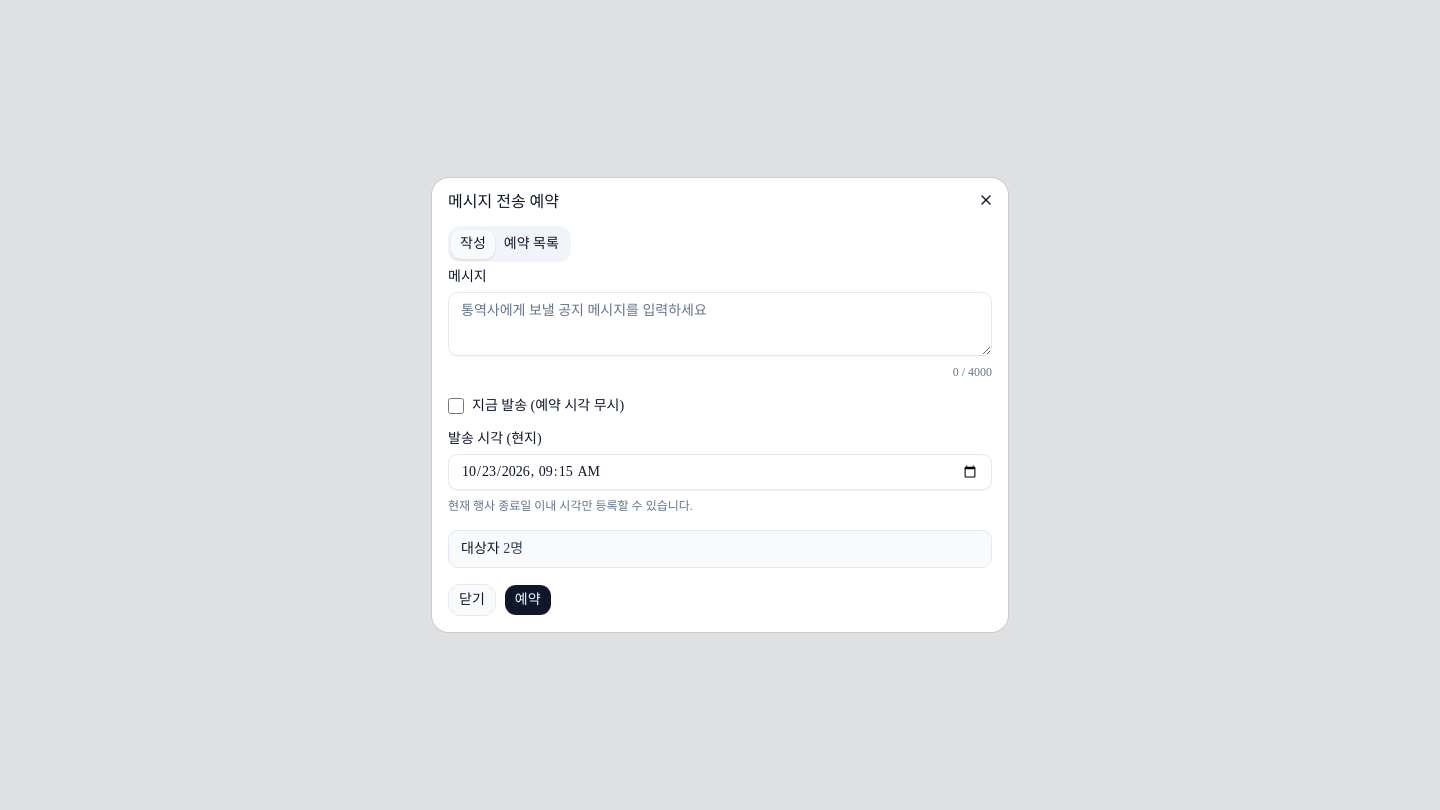
Test: ScheduledNoticeDialog 탭 통합 › 작성 제출 성공 → 목록 탭으로 전환
In the text box labelled "메시지": (720, 324) 448,292 -> 992,356, type "새 공지"
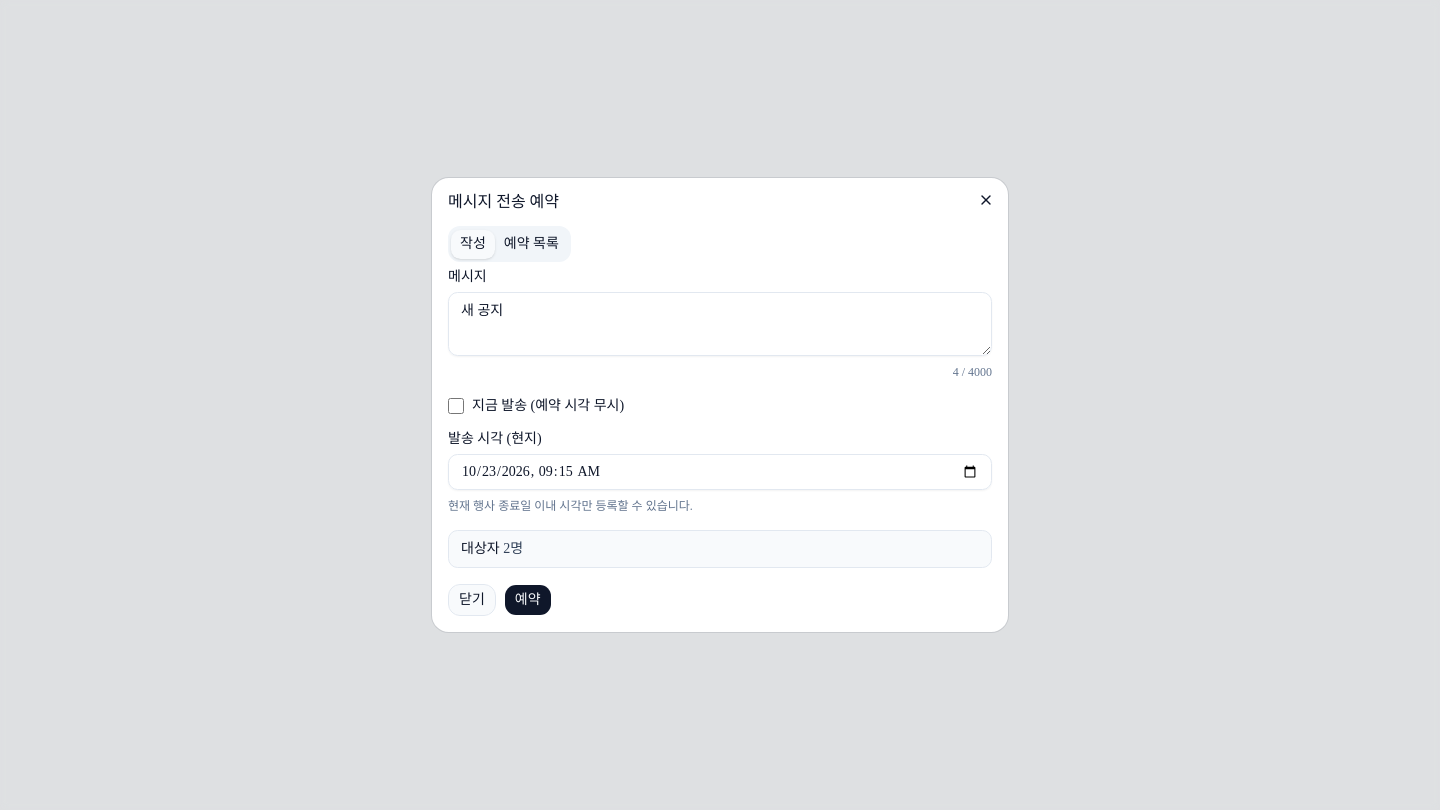
Click the button "예약": (528, 600) 504,584 -> 552,616
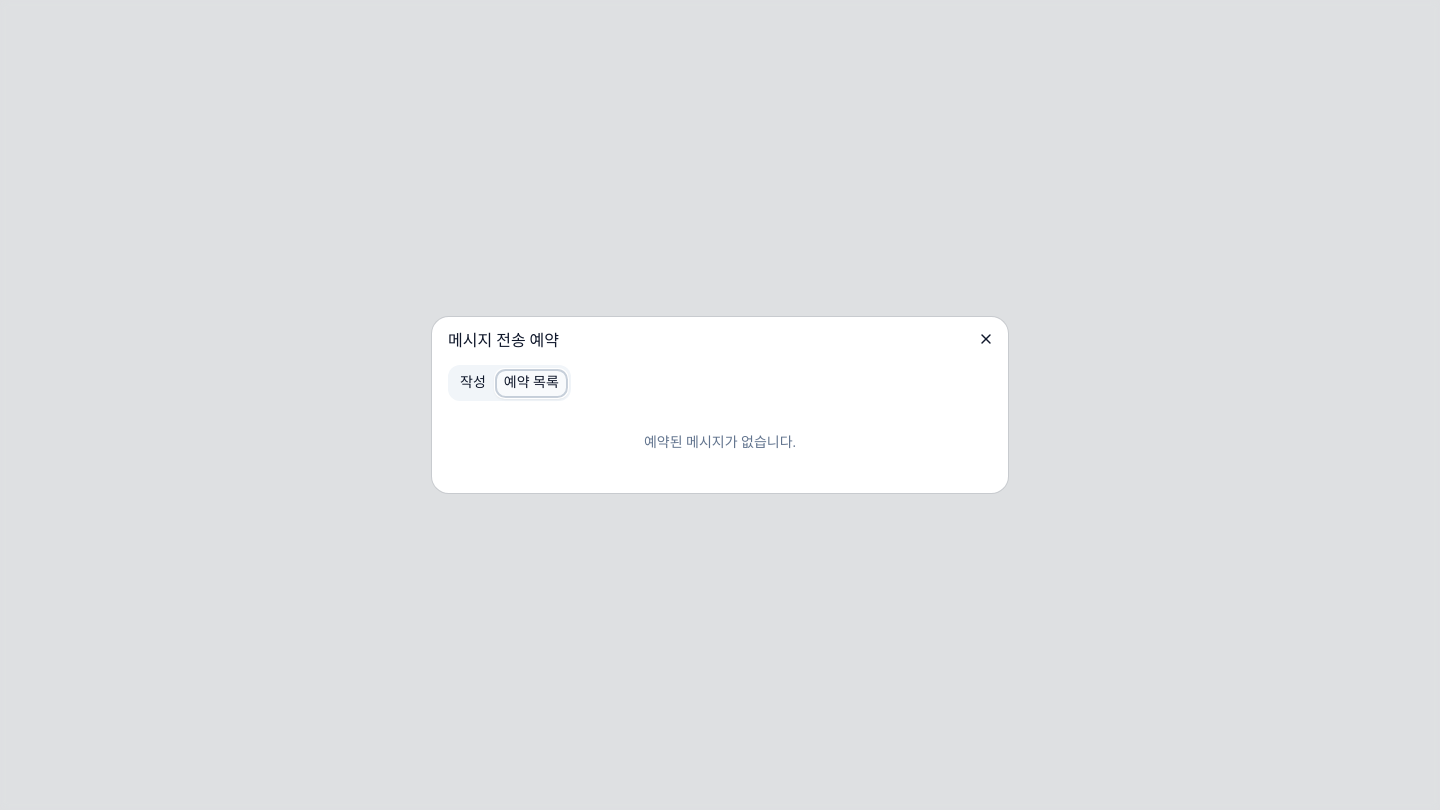
Result: the text "예약된 메시지가 없습니다." is shown at 644,435 -> 796,450
